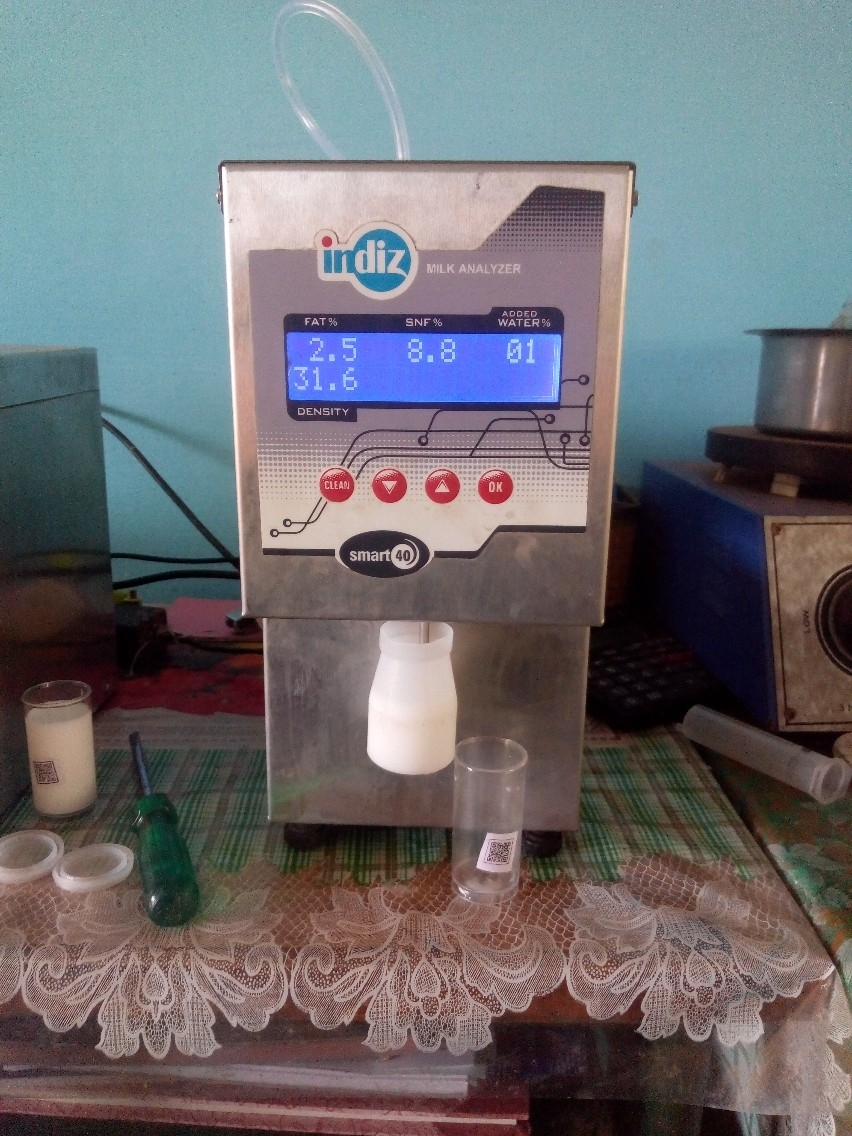lcd: (276, 321, 576, 416)
qr: (476, 831, 529, 878)
